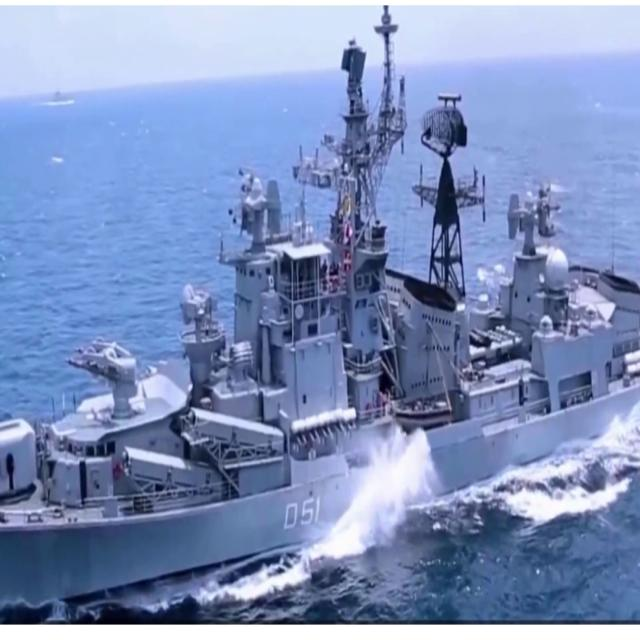OCR: (275, 488, 325, 539)
